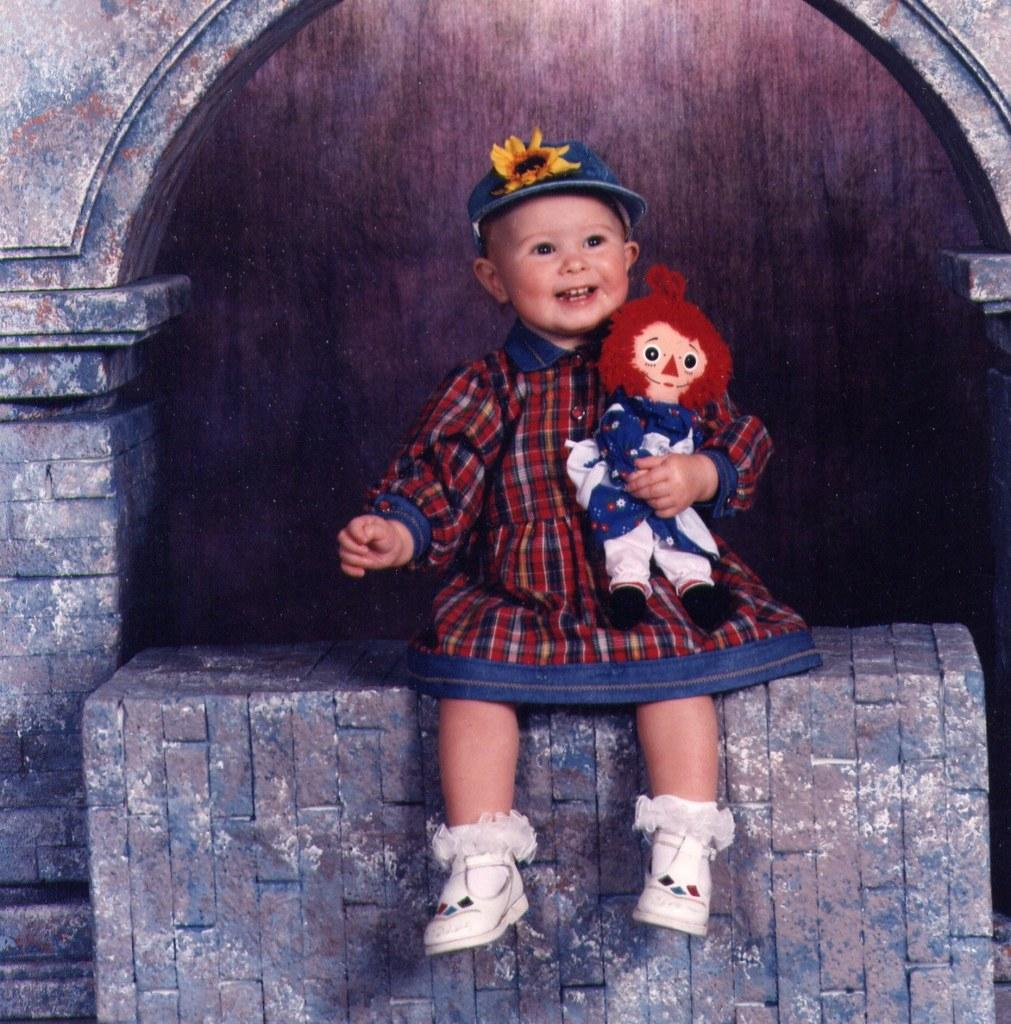Hat: (467, 126, 642, 240)
